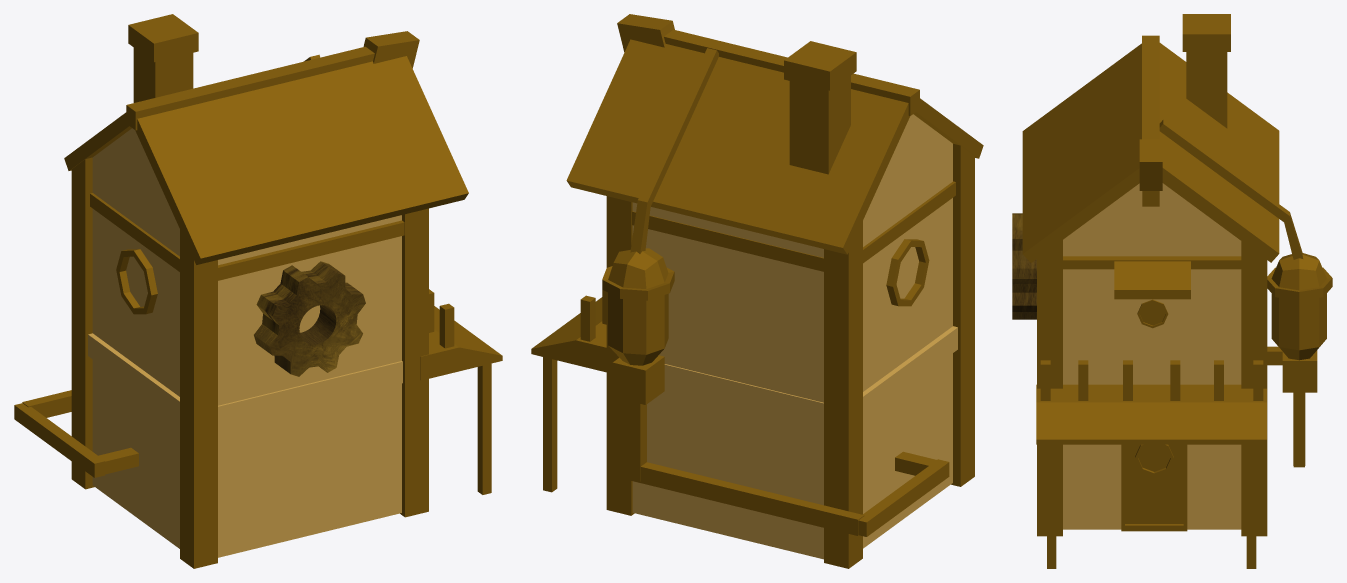
Rendered from steamHouse2.obj.
The picture shows the model from 3 angles, left to right: view 1: azimuth 30°, elevation 25°; view 2: azimuth 150°, elevation 25°; view 3: azimuth 270°, elevation 25°; orthographic projection. The views are drawn at different scales.
Visible parts, largest first — view 1: 円柱; view 2: 円柱; view 3: 円柱.
Boxes of the visible parts, x1,y1,x2,y2 form: 円柱: [14, 14, 502, 568]; 円柱: [531, 14, 983, 568]; 円柱: [1012, 14, 1332, 568].
Size of the model in its own units: 11.34 by 14.46 by 9.68.
Materials: 3 (3 with a texture image).
